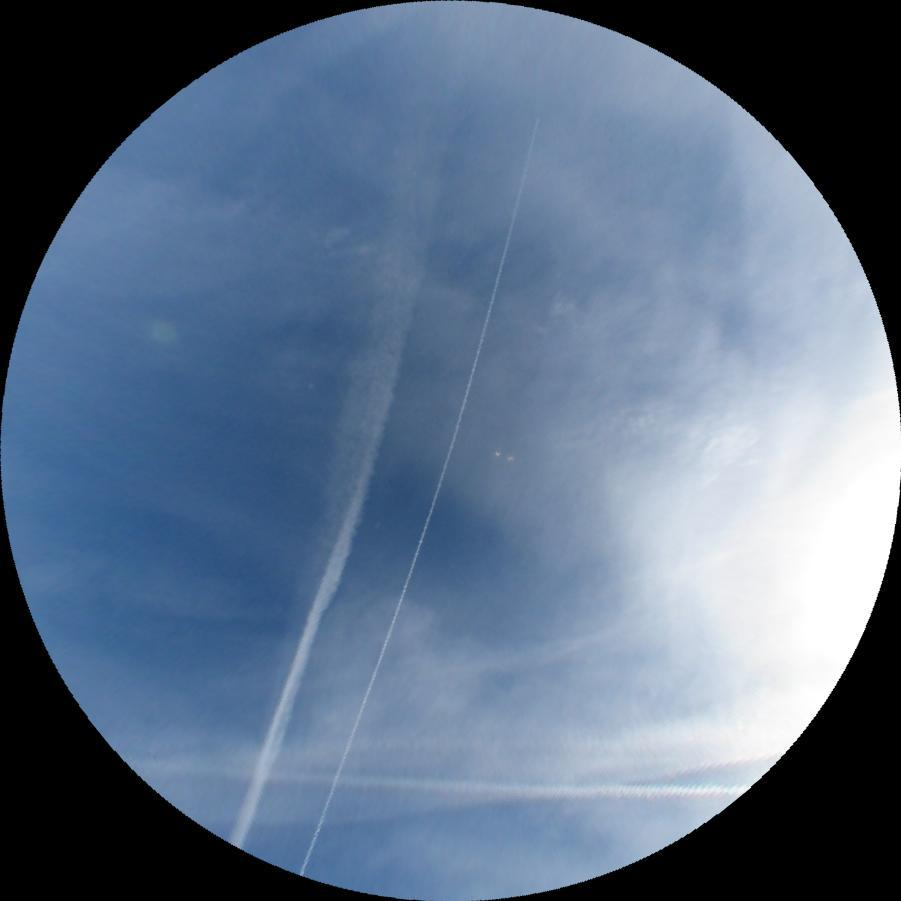contrail old: (128, 757, 752, 806)
contrail veryold: (230, 185, 447, 863), (125, 702, 790, 840)
contrail young: (297, 117, 556, 880)
